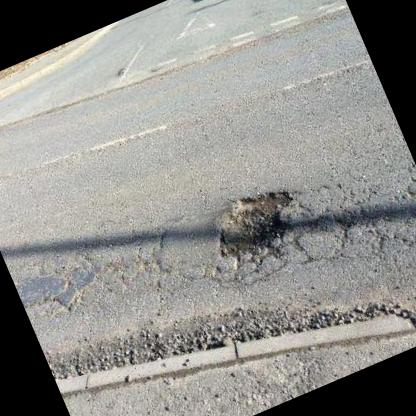pothole: (198, 174, 314, 276)
